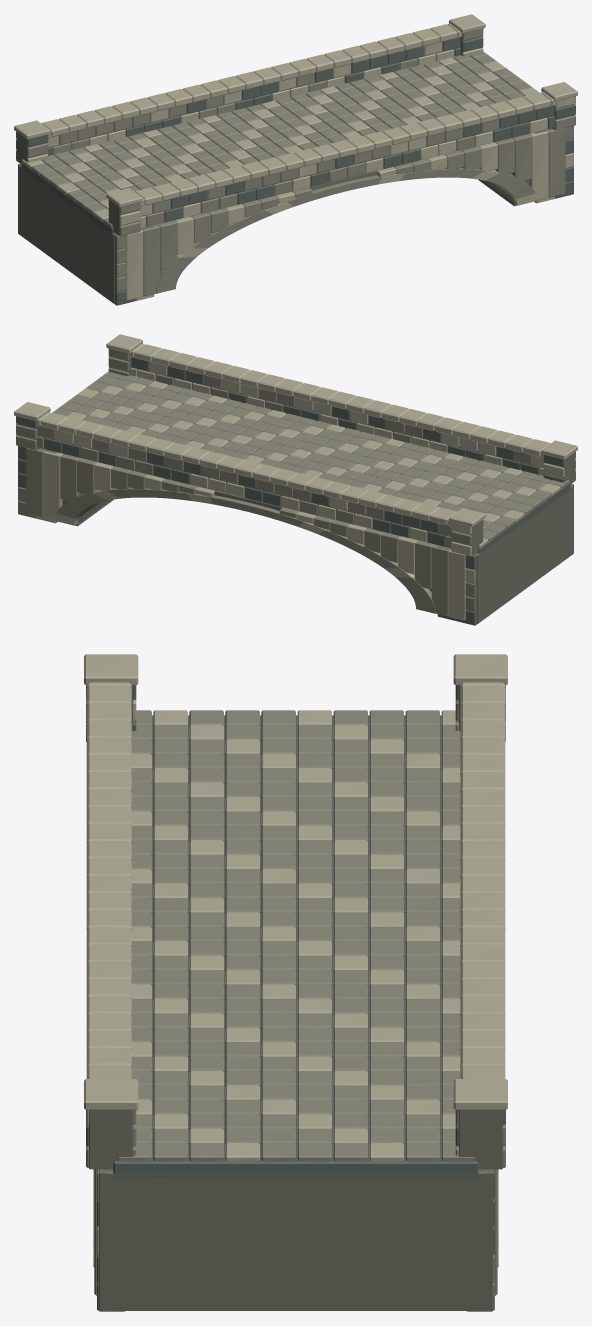
File: stone_bridge_10m.glb
3 views of the same model, one above another, from view 1: azimuth 30°, elevation 25°; view 2: azimuth 150°, elevation 25°; view 3: azimuth 270°, elevation 25° (orthographic). The views are drawn at different scales.
Visible parts, largest first — view 1: Detailed structure surfaces; view 2: Detailed structure surfaces; view 3: Detailed structure surfaces.
Part boxes in pixels (x1,y1,x2,y2): Detailed structure surfaces: [14, 14, 577, 305]; Detailed structure surfaces: [14, 334, 577, 625]; Detailed structure surfaces: [84, 654, 507, 1311].
Bounding box in the file's own units: 10 × 2.2 × 4.
Materials: 1 (1 with a texture image).
